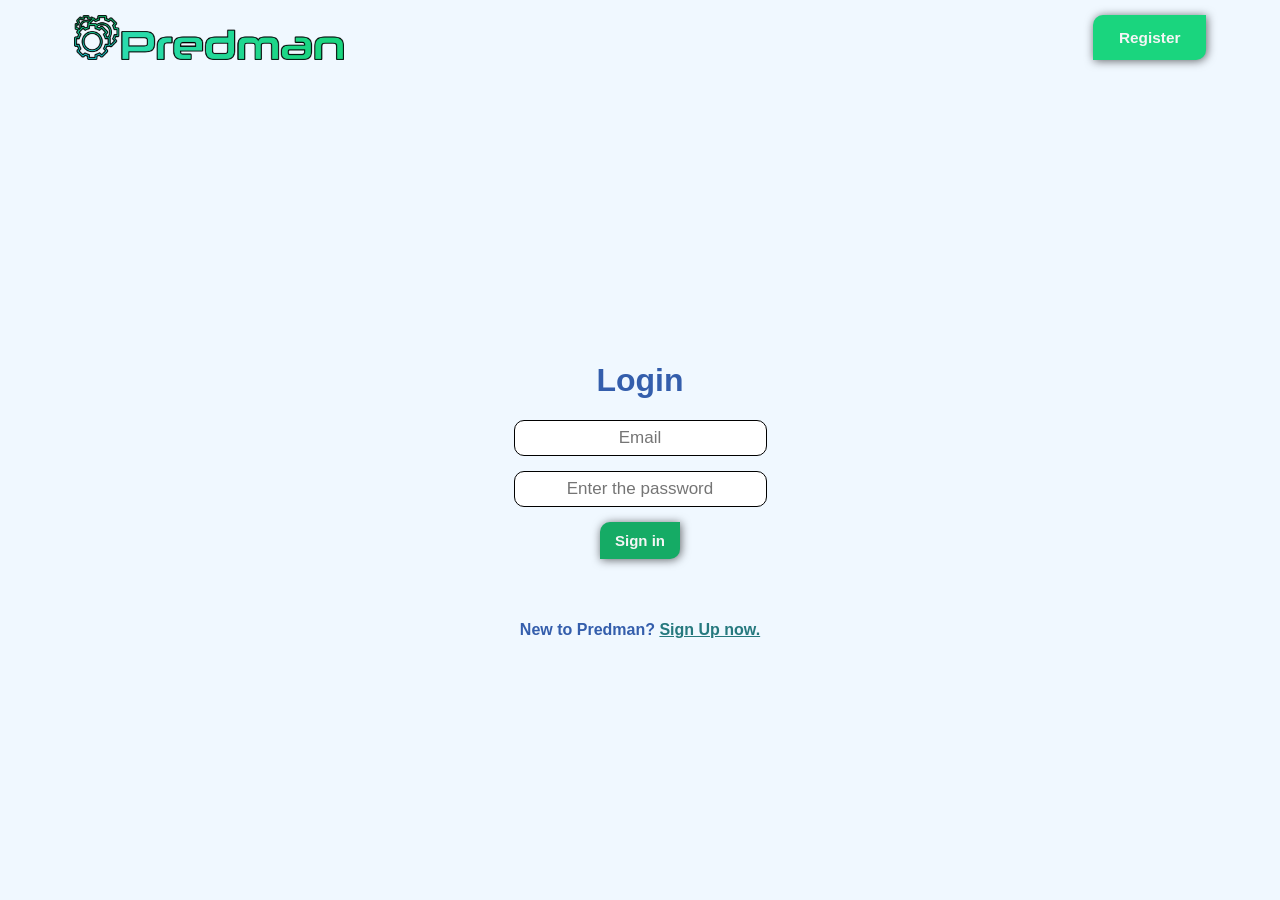
it: Login component › shows required error messages on submit without input
Click the button "Sign in".
click(640, 541)  # box [600,522,680,559]
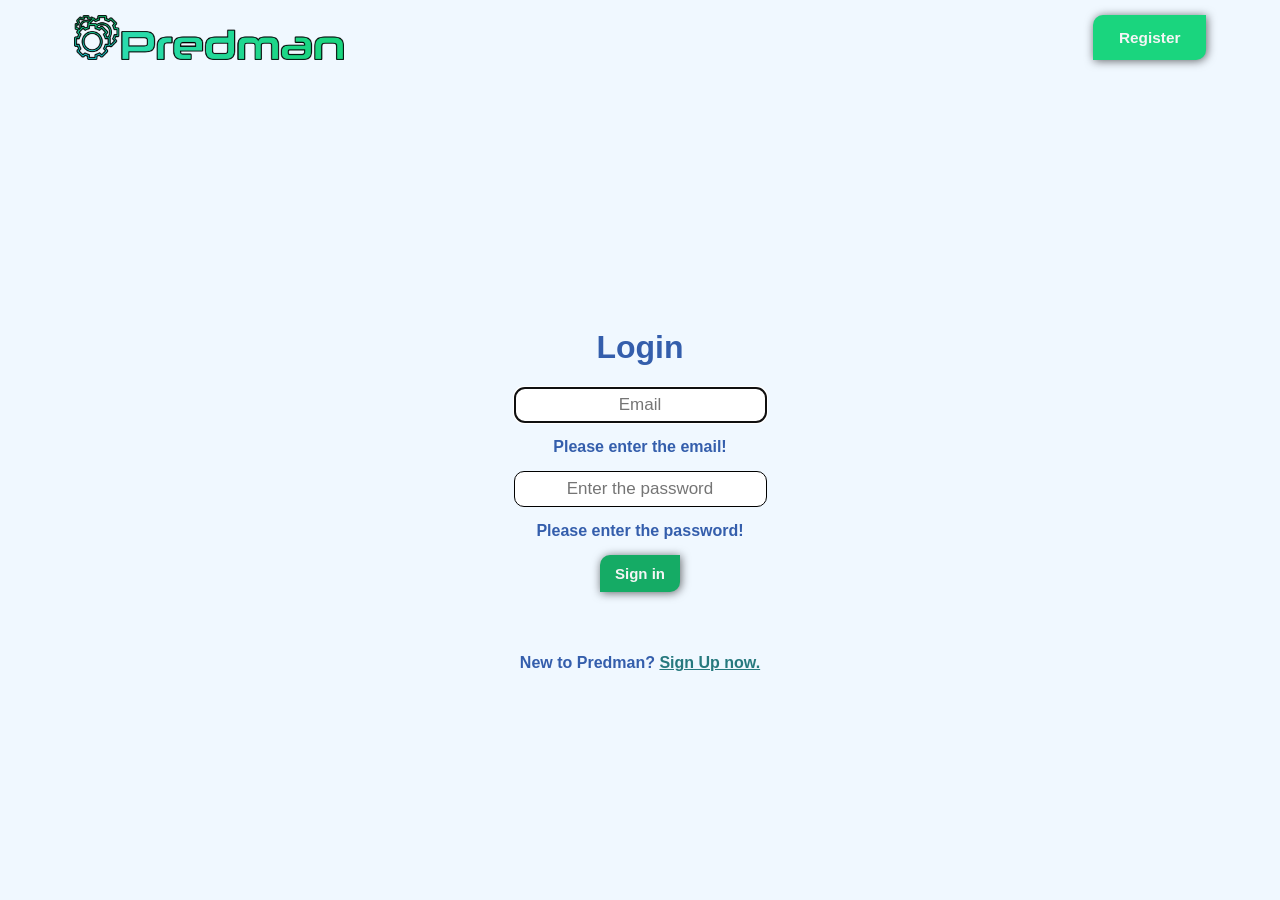
Check: the text "Please enter the email!" is shown, box [553,438,727,456]
Check: the text "Please enter the password!" is shown, box [536,522,744,540]
